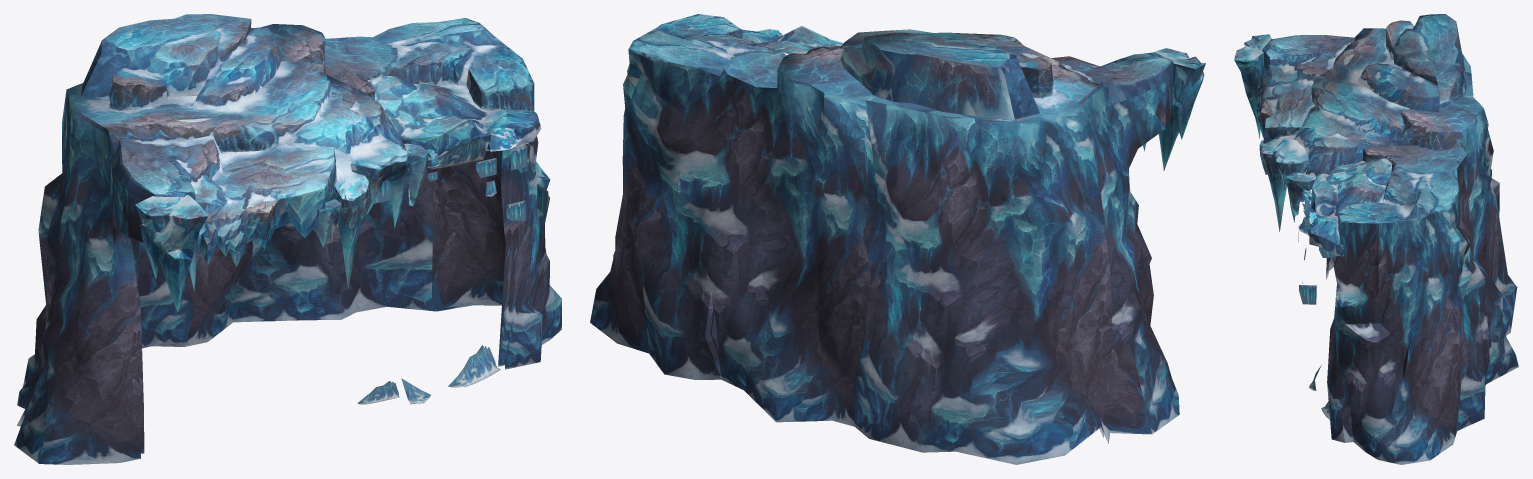
The model's file is 5013_Item_shitou_4.FBX.
3 views of the same model, side by side, from view 1: azimuth 30°, elevation 25°; view 2: azimuth 150°, elevation 25°; view 3: azimuth 270°, elevation 25° (orthographic). The views are drawn at different scales.
Visible parts, largest first — view 1: 5013_Item_shitou_4; view 2: 5013_Item_shitou_4; view 3: 5013_Item_shitou_4.
Part boxes in pixels (<box>): 5013_Item_shitou_4: <box>14,14,561,464</box>; 5013_Item_shitou_4: <box>590,14,1205,464</box>; 5013_Item_shitou_4: <box>1234,14,1518,464</box>.
Bounding box in the file's own units: 18138 × 11464 × 10312.
